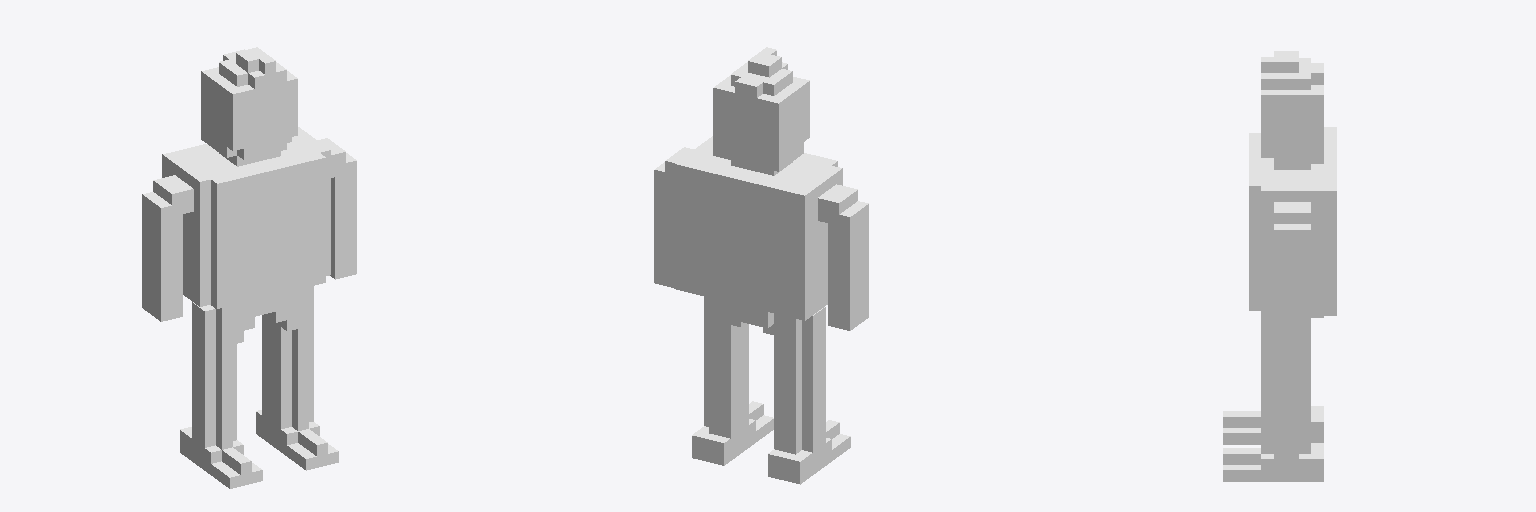
Rendered from Manager.obj.
The picture shows the model from 3 angles: view 1: azimuth 30°, elevation 25°; view 2: azimuth 150°, elevation 25°; view 3: azimuth 270°, elevation 25°; orthographic projection.
Parts seen in each view (by area): view 1: Manager; view 2: Manager; view 3: Manager.
Part boxes in pixels (x1,y1,x2,y2): Manager: (142, 47, 356, 488); Manager: (654, 47, 868, 484); Manager: (1223, 51, 1336, 481).
Size of the model in its own units: 18 by 35 by 9.